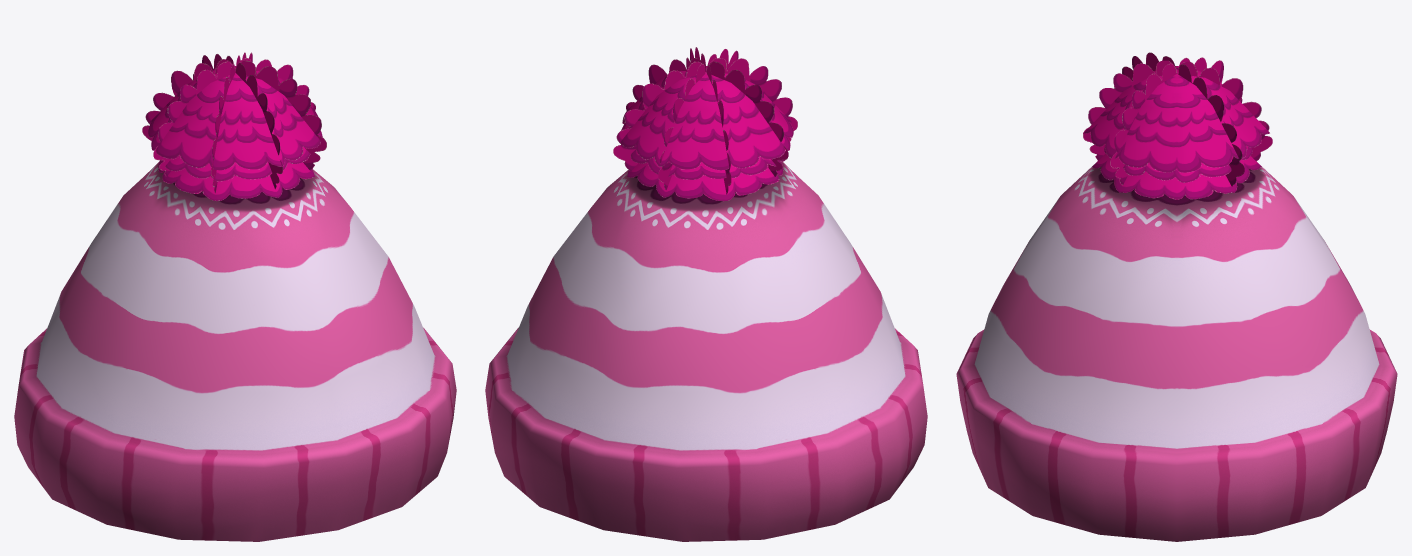
File: Hat.fbx
3 renders of one model, left to right at view 1: azimuth 30°, elevation 25°; view 2: azimuth 150°, elevation 25°; view 3: azimuth 270°, elevation 25°, orthographic.
Visible parts, largest first — view 1: 075; view 2: 075; view 3: 075.
Part boxes in pixels (box(x1,y1,x2,y2)): 075: box(14, 52, 456, 541); 075: box(485, 47, 927, 541); 075: box(956, 52, 1397, 541).
Bounding box in the file's own units: 49.17 × 48.48 × 48.69.
1 material, 1 textured.
